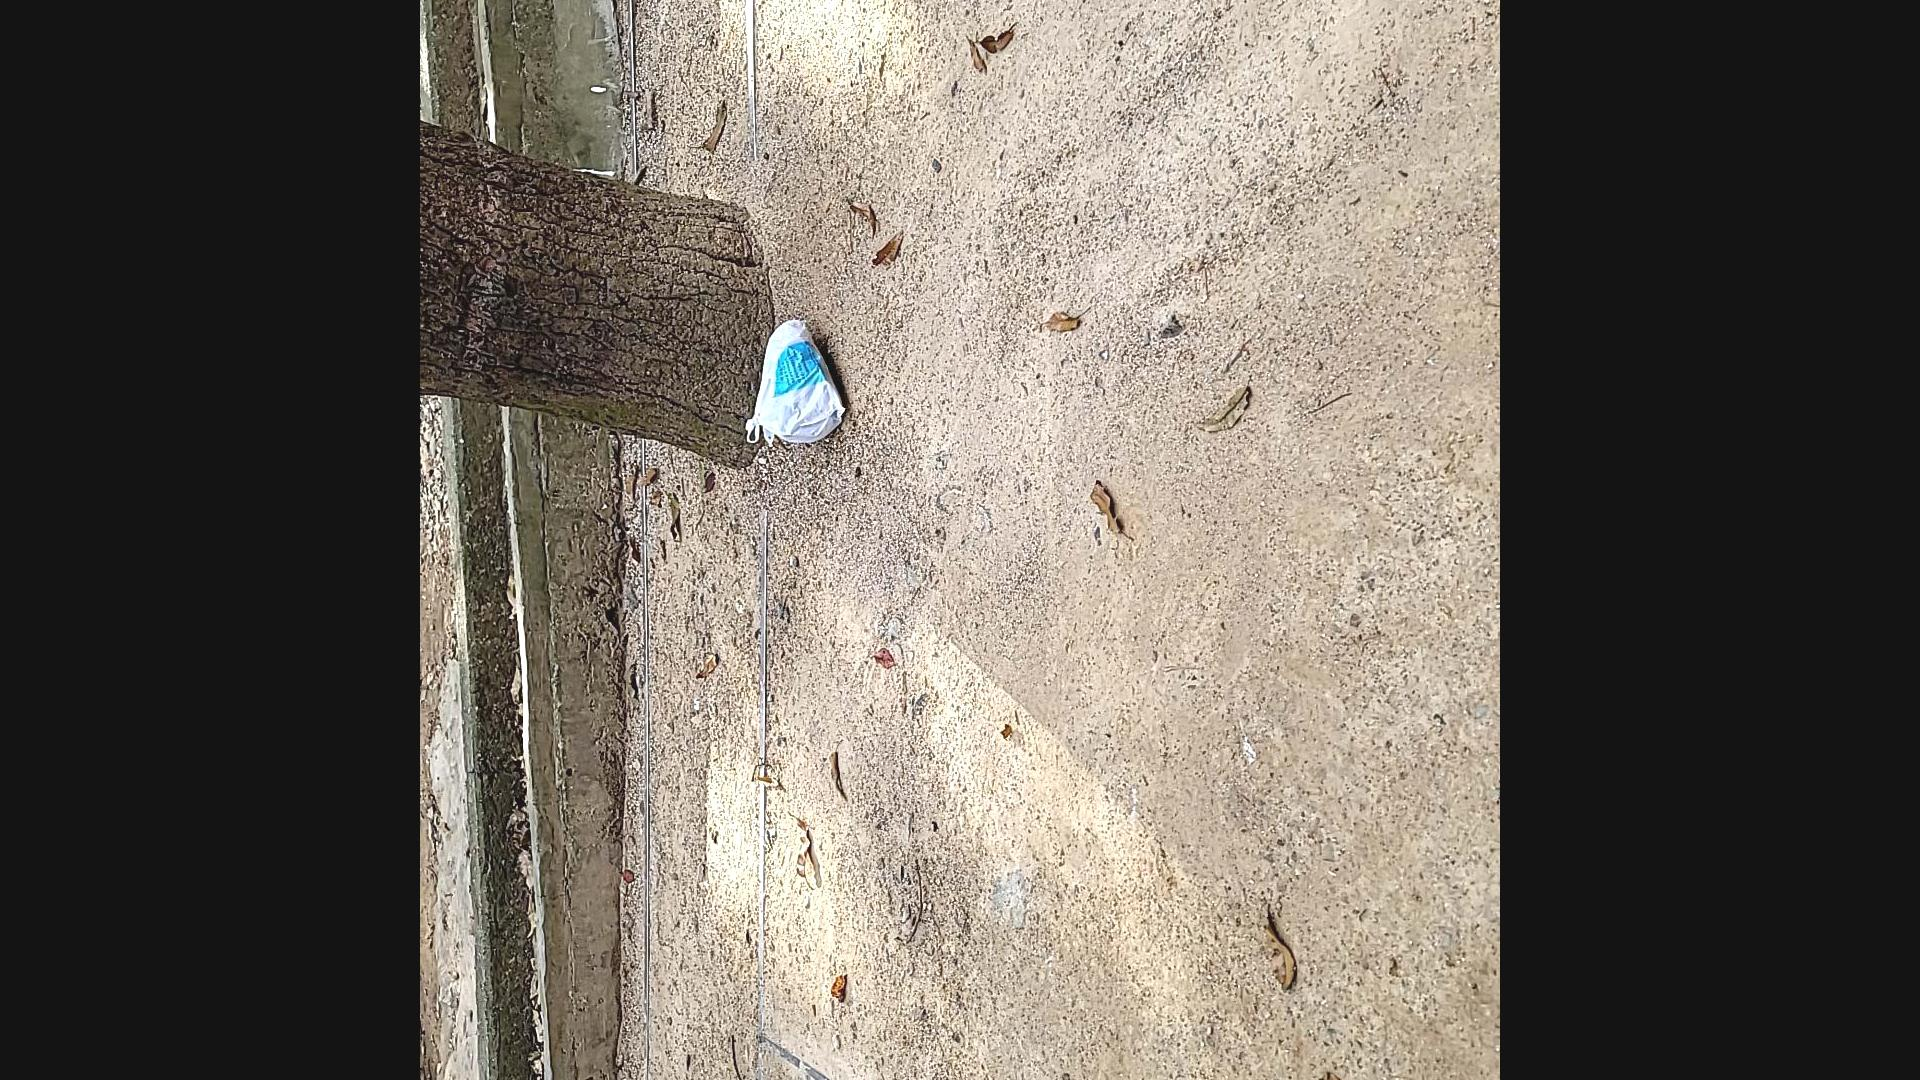white_bag: (738, 309, 855, 458)
